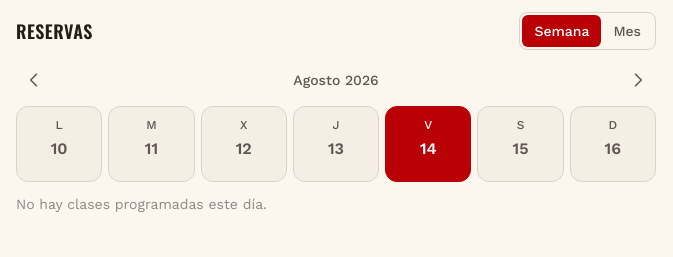
Scenario: ReservasPage › ventana de reserva › no deja avanzar más allá de la última semana reservable
The width and height of the screenshot is (673, 257).
Click the button named "Semana siguiente" at [638, 80], box [620, 62, 656, 98]
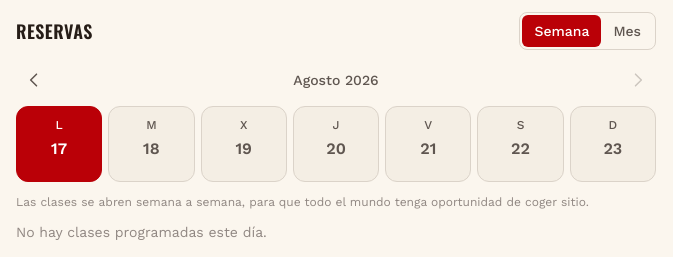
Check: the button named "Semana siguiente" is disabled, box [620, 62, 656, 98]
Check: the text "Las clases se abren semana a semana" is shown, box [16, 195, 589, 209]
